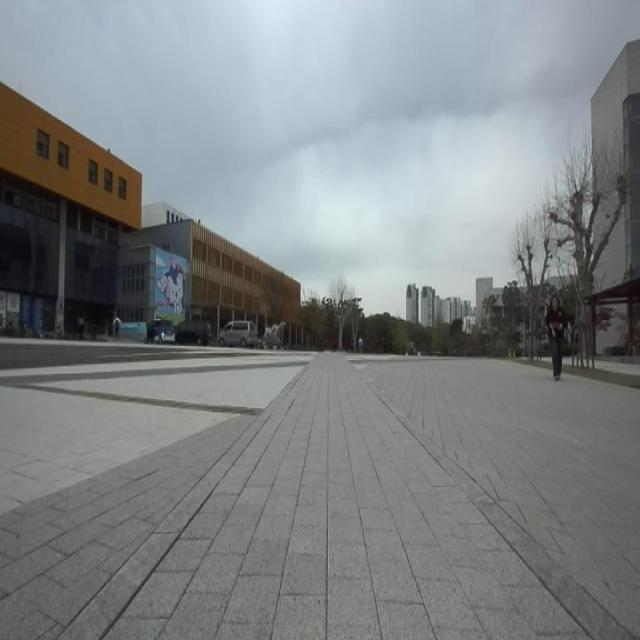sidewalk: (62, 355, 629, 638)
